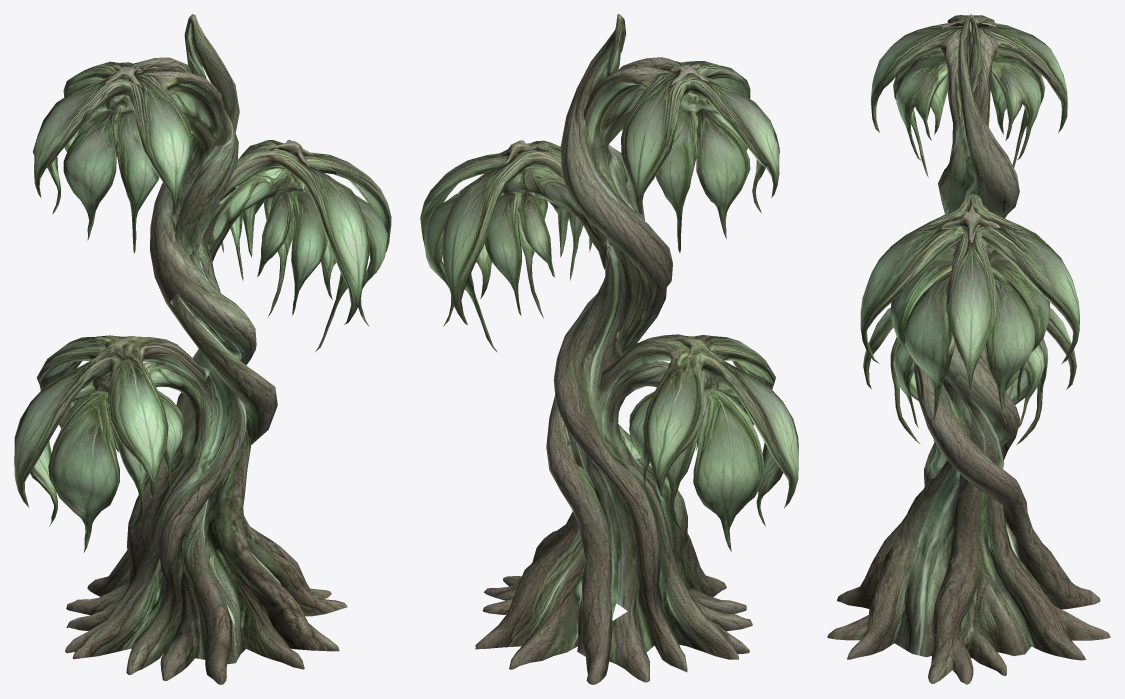
The model's file is alien-tree-spire.glb.
3 renders of one model, left to right at view 1: azimuth 30°, elevation 25°; view 2: azimuth 150°, elevation 25°; view 3: azimuth 270°, elevation 25°, orthographic.
Parts seen in each view (by area): view 1: mesh_node; view 2: mesh_node; view 3: mesh_node.
Boxes of the visible parts, x1,y1,x2,y2 form: mesh_node: (14,14,391,684); mesh_node: (420,14,798,684); mesh_node: (827,14,1110,684).
Bounding box in the file's own units: 11.46 × 18 × 7.65.
1 material, 1 textured.
